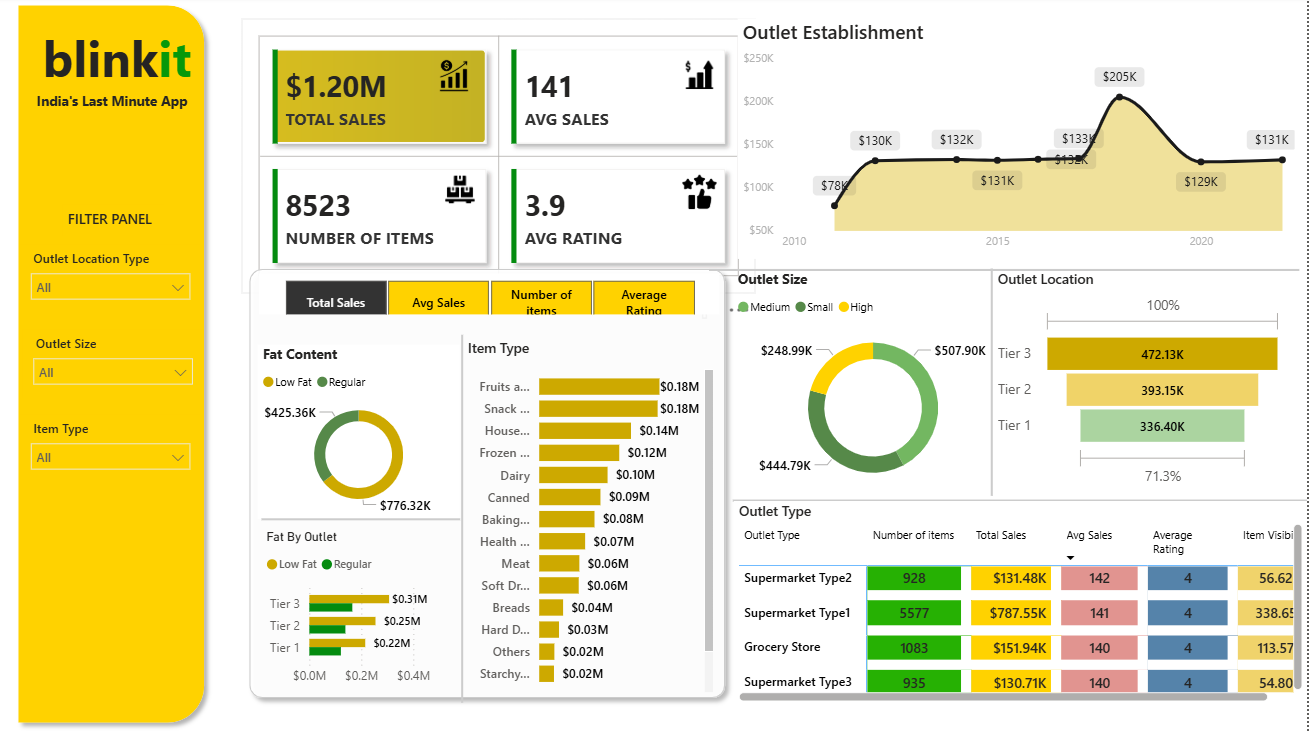

What the dashboard file says about the page in this screenshot:
{"tool":"powerbi","page":{"name":"Page 1","canvas":[1280,720],"ordinal":0},"visuals":[{"type":"shape","box":[10,0,200,720],"z":0},{"type":"textbox","box":[37.5,21.4,174.1,93.7],"z":1000},{"type":"textbox","box":[32.1,88.4,187.4,56.2],"z":2000},{"type":"cardVisual","fields":{"Data":["BlinkIT Grocery Data.Total Sales","BlinkIT Grocery Data.Avg Sales","BlinkIT Grocery Data.Number of items","BlinkIT Grocery Data.Average Rating"]},"box":[236.9,21.5,503.1,270],"z":3000},{"type":"image","box":[423.8,62.3,41.5,31.5],"z":4000},{"type":"image","box":[667.7,62.3,35.4,29.2],"z":5000},{"type":"image","box":[436.2,175.4,29.2,28.5],"z":6000},{"type":"image","box":[667.7,175.4,35.4,33.8],"z":7000},{"type":"shape","box":[235.6,257.8,483.3,437.8],"z":8000},{"type":"donutChart","title":"Fat Content","fields":{"Y":["BlinkIT Grocery Data.Total Sales"],"Category":["BlinkIT Grocery Data.Item Fat Content"]},"box":[253.3,341.1,197.8,170],"z":9000},{"type":"slicer","fields":{"Values":["Metrics.Metrics"]},"box":[253.8,271.2,450,40],"z":10000},{"type":"clusteredBarChart","title":"Fat By Outlet","fields":{"Y":["BlinkIT Grocery Data.Total Sales"],"Category":["BlinkIT Grocery Data.Outlet Location Type"],"Series":["BlinkIT Grocery Data.Item Fat Content"]},"box":[256.7,522.2,184.4,161.1],"z":11000},{"type":"shape","box":[256.7,501.1,194.4,21.1],"z":12000},{"type":"shape","box":[441.1,331.1,23.3,360],"z":13000},{"type":"barChart","title":"Item Type","fields":{"Y":["BlinkIT Grocery Data.Total Sales"],"Category":["BlinkIT Grocery Data.Item Type"]},"box":[453.3,335.6,250,351.1],"z":14000},{"type":"lineChart","title":"Outlet Establishment","fields":{"Y":["BlinkIT Grocery Data.Total Sales"],"Category":["BlinkIT Grocery Data.Outlet Establishment Year"]},"box":[722.5,22.5,550,235],"z":15000},{"type":"shape","box":[695,257.5,577.5,20],"z":16000},{"type":"donutChart","title":"Outlet Size","fields":{"Y":["BlinkIT Grocery Data.Total Sales"],"Category":["BlinkIT Grocery Data.Outlet Size"]},"box":[717.5,267.5,275,225],"z":17000},{"type":"shape","box":[958.8,266.2,25,222.5],"z":18000},{"type":"shape","box":[717.5,485,562.5,16.2],"z":19000},{"type":"funnel","title":"Outlet Location","fields":{"Y":["Sum(BlinkIT Grocery Data.Sales)"],"Category":["BlinkIT Grocery Data.Outlet Location Type"]},"box":[972.5,267.5,288.8,217.5],"z":20000},{"type":"pivotTable","title":"Outlet Type","fields":{"Rows":["BlinkIT Grocery Data.Outlet Type"],"Values":["BlinkIT Grocery Data.Number of items","BlinkIT Grocery Data.Total Sales","BlinkIT Grocery Data.Avg Sales","BlinkIT Grocery Data.Average Rating","Sum(BlinkIT Grocery Data.Item Visibility)"]},"box":[718.8,493.8,561.2,201.2],"z":21000},{"type":"slicer","fields":{"Values":["BlinkIT Grocery Data.Outlet Location Type"]},"box":[21.2,243.8,176.2,66.2],"z":22000},{"type":"slicer","fields":{"Values":["BlinkIT Grocery Data.Outlet Size"]},"box":[23.8,326.2,176.2,66.2],"z":23000},{"type":"slicer","fields":{"Values":["BlinkIT Grocery Data.Item Type"]},"box":[21.2,410,176.2,66.2],"z":24000},{"type":"textbox","box":[62.5,203.8,98.8,30],"z":25000}]}

Visuals, with their boxes in screenshot pixels (x1, y1, x2, y2), scaled from the page's 1280x720 canvas onto the 1310x731 screenshot:
shape: [10,0,215,730]
textbox: [38,22,217,117]
textbox: [33,90,225,147]
cardVisual - BlinkIT Grocery Data.Total Sales x BlinkIT Grocery Data.Avg Sales: [242,22,757,296]
image: [434,63,476,95]
image: [683,63,720,93]
image: [446,178,476,207]
image: [683,178,720,212]
shape: [241,262,736,706]
"Fat Content" donutChart: [259,346,462,519]
slicer - Metrics.Metrics: [260,275,720,316]
"Fat By Outlet" clusteredBarChart: [263,530,451,694]
shape: [263,509,462,530]
shape: [451,336,475,702]
"Item Type" barChart: [464,341,720,697]
"Outlet Establishment" lineChart: [739,23,1302,261]
shape: [711,261,1302,282]
"Outlet Size" donutChart: [734,272,1016,500]
shape: [981,270,1007,496]
shape: [734,492,1309,509]
"Outlet Location" funnel: [995,272,1291,492]
"Outlet Type" pivotTable: [736,501,1309,706]
slicer - BlinkIT Grocery Data.Outlet Location Type: [22,248,202,315]
slicer - BlinkIT Grocery Data.Outlet Size: [24,331,205,398]
slicer - BlinkIT Grocery Data.Item Type: [22,416,202,483]
textbox: [64,207,165,237]
